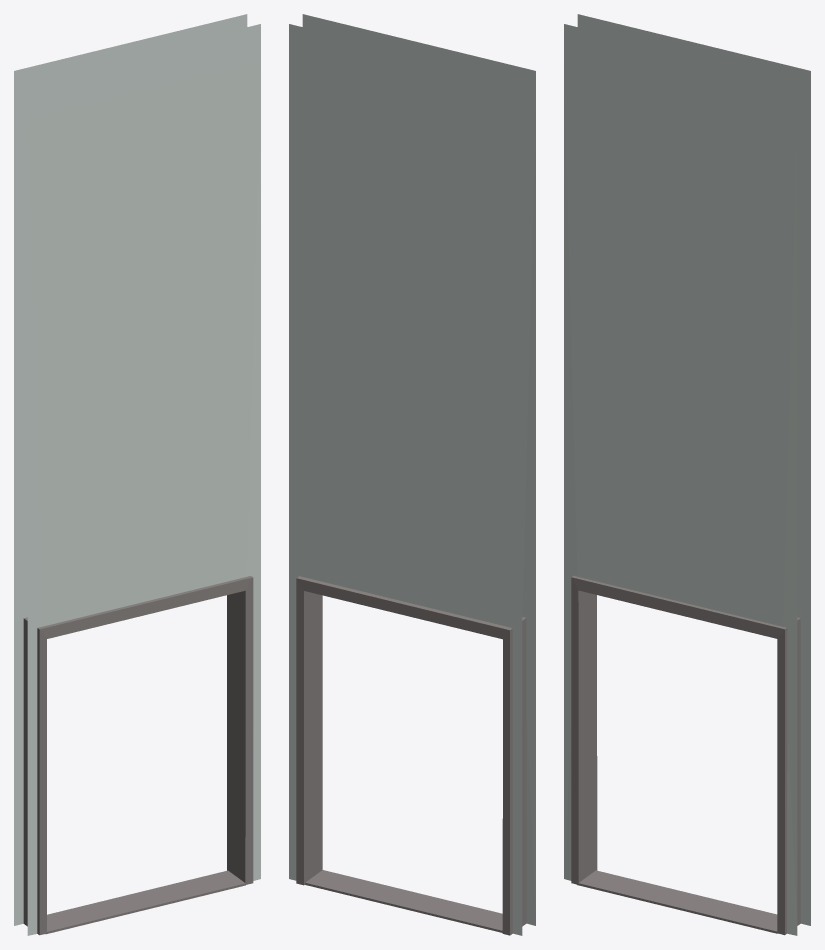
The model's file is SM_Outer_DoorFrame_B2_200.fbx.
3 views of the same model, side by side, from view 1: azimuth 30°, elevation 25°; view 2: azimuth 150°, elevation 25°; view 3: azimuth 330°, elevation 25° (orthographic).
Parts seen in each view (by area): view 1: SM_Outer_DoorFrame_B2_200; view 2: SM_Outer_DoorFrame_B2_200; view 3: SM_Outer_DoorFrame_B2_200.
Part boxes in pixels (x1,y1,x2,y2): SM_Outer_DoorFrame_B2_200: (14, 14, 260, 935); SM_Outer_DoorFrame_B2_200: (289, 14, 535, 935); SM_Outer_DoorFrame_B2_200: (564, 14, 810, 935).
Bounding box in the file's own units: 200 × 27.95 × 700.
5 materials, 5 textured.
